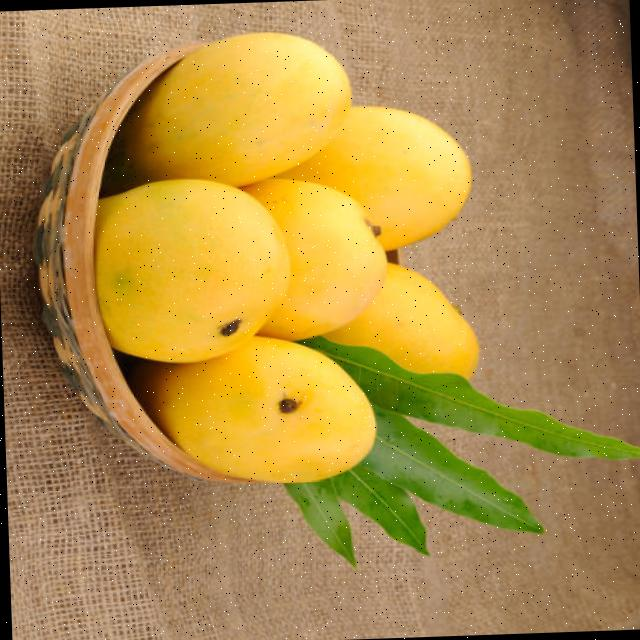mango: (128, 336, 375, 483), (94, 178, 289, 363), (117, 32, 349, 187), (278, 106, 470, 250), (242, 178, 385, 340), (324, 263, 477, 379)
